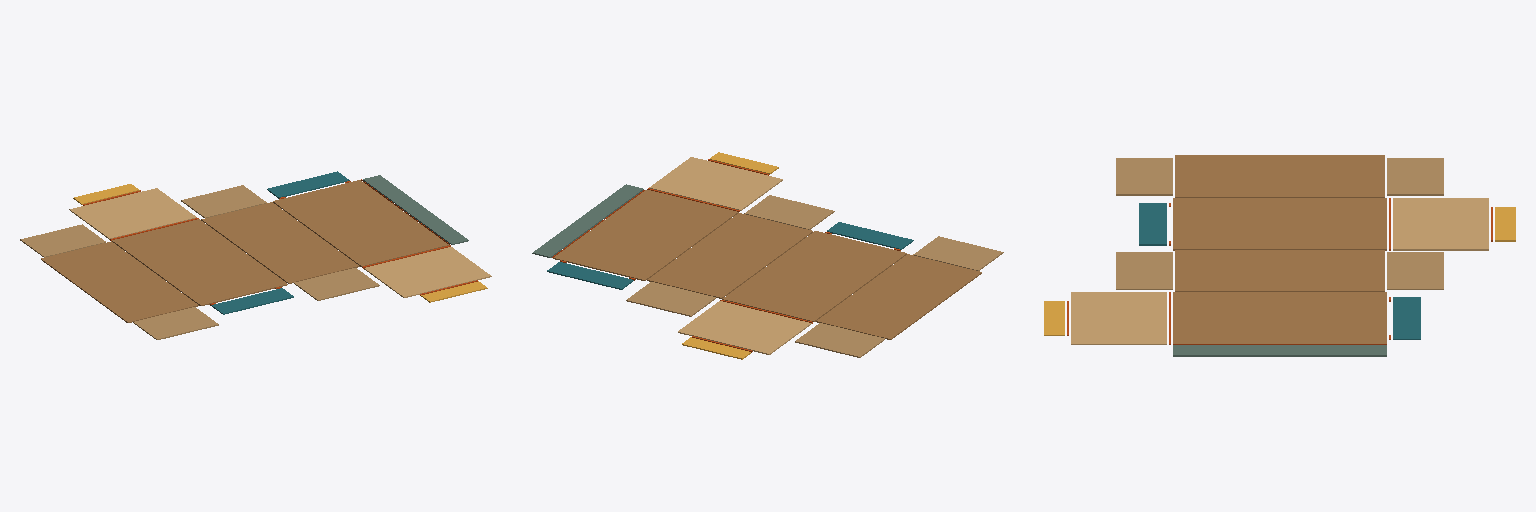
URDF robot description (finite_thickness_tuck_carton):
<?xml version='1.0' encoding='utf-8'?>
<robot name="finite_thickness_tuck_carton">
  <!-- SI units. Root: back_wall. All zero joints: flat net. The slot ears are separate collision boxes: do not convex-hull them together. -->
  <material name="kraft">
    <color rgba="0.69 0.52 0.34 1" />
  </material>
  <material name="lid">
    <color rgba="0.84 0.69 0.49 1" />
  </material>
  <material name="dust">
    <color rgba="0.75 0.61 0.43 1" />
  </material>
  <material name="margin">
    <color rgba="0.79 0.35 0.14 1" />
  </material>
  <material name="keeper">
    <color rgba="0.22 0.48 0.51 1" />
  </material>
  <material name="tab">
    <color rgba="0.92 0.7 0.31 1" />
  </material>
  <material name="glue">
    <color rgba="0.43 0.52 0.48 1" />
  </material>
  <link name="back_wall">
    <inertial>
      <origin xyz="0.08 0.14 0" rpy="0 0 0" />
      <mass value="0.061371576" />
      <inertia ixx="0.000394705358458" iyy="0.000127370773402" izz="0.000522035217477" ixy="0" ixz="0" iyz="0" />
    </inertial>
    <visual name="back_wall_visual_0">
      <origin xyz="0.08 0.14 0" rpy="0 0 0" />
      <geometry>
        <box size="0.1578 0.2778 0.002" />
      </geometry>
      <material name="kraft" />
    </visual>
    <collision name="back_wall_collision_0">
      <origin xyz="0.08 0.14 0" rpy="0 0 0" />
      <geometry>
        <box size="0.1578 0.2778 0.002" />
      </geometry>
    </collision>
  </link>
  <link name="right_wall">
    <inertial>
      <origin xyz="0.065 0.14 0" rpy="0 0 0" />
      <mass value="0.048773592" />
      <inertia ixx="0.000302049815318" iyy="6.64005307274e-05" izz="0.000368417830318" ixy="0" ixz="0" iyz="0" />
    </inertial>
    <visual name="right_wall_visual_0">
      <origin xyz="0.065 0.14 0" rpy="0 0 0" />
      <geometry>
        <box size="0.1278 0.2726 0.002" />
      </geometry>
      <material name="kraft" />
    </visual>
    <collision name="right_wall_collision_0">
      <origin xyz="0.065 0.14 0" rpy="0 0 0" />
      <geometry>
        <box size="0.1278 0.2726 0.002" />
      </geometry>
    </collision>
  </link>
  <link name="front_wall">
    <inertial>
      <origin xyz="0.08 0.14 0" rpy="0 0 0" />
      <mass value="0.061371576" />
      <inertia ixx="0.000394705358458" iyy="0.000127370773402" izz="0.000522035217477" ixy="0" ixz="0" iyz="0" />
    </inertial>
    <visual name="front_wall_visual_0">
      <origin xyz="0.08 0.14 0" rpy="0 0 0" />
      <geometry>
        <box size="0.1578 0.2778 0.002" />
      </geometry>
      <material name="kraft" />
    </visual>
    <collision name="front_wall_collision_0">
      <origin xyz="0.08 0.14 0" rpy="0 0 0" />
      <geometry>
        <box size="0.1578 0.2778 0.002" />
      </geometry>
    </collision>
  </link>
  <link name="left_wall">
    <inertial>
      <origin xyz="-0.065 0.14 0" rpy="0 0 0" />
      <mass value="0.048773592" />
      <inertia ixx="0.000302049815318" iyy="6.64005307274e-05" izz="0.000368417830318" ixy="0" ixz="0" iyz="0" />
    </inertial>
    <visual name="left_wall_visual_0">
      <origin xyz="-0.065 0.14 0" rpy="0 0 0" />
      <geometry>
        <box size="0.1278 0.2726 0.002" />
      </geometry>
      <material name="kraft" />
    </visual>
    <collision name="left_wall_collision_0">
      <origin xyz="-0.065 0.14 0" rpy="0 0 0" />
      <geometry>
        <box size="0.1278 0.2726 0.002" />
      </geometry>
    </collision>
  </link>
  <joint name="fold_right_wall" type="revolute">
    <parent link="back_wall" />
    <child link="right_wall" />
    <origin xyz="0.16 0 0" rpy="0 0 0" />
    <axis xyz="0 -1 0" />
    <limit lower="0" upper="1.57079632679" effort="0.35" velocity="2.0" />
    <dynamics damping="0.08" friction="0.003" />
  </joint>
  <joint name="fold_front_wall" type="revolute">
    <parent link="right_wall" />
    <child link="front_wall" />
    <origin xyz="0.13 0 0" rpy="0 0 0" />
    <axis xyz="0 -1 0" />
    <limit lower="0" upper="1.57079632679" effort="0.35" velocity="2.0" />
    <dynamics damping="0.08" friction="0.003" />
  </joint>
  <joint name="fold_left_wall" type="revolute">
    <parent link="back_wall" />
    <child link="left_wall" />
    <origin xyz="0 0 0" rpy="0 0 0" />
    <axis xyz="0 1 0" />
    <limit lower="0" upper="1.57079632679" effort="0.35" velocity="2.0" />
    <dynamics damping="0.08" friction="0.003" />
  </joint>
  <link name="seam_margin">
    <inertial>
      <origin xyz="0.0013 0.14 0" rpy="0 0 0" />
      <mass value="0.000155568" />
      <inertia ixx="1.00052055376e-06" iyy="5.393024e-11" izz="1.000470772e-06" ixy="0" ixz="0" iyz="0" />
    </inertial>
    <visual name="seam_margin_visual_0">
      <origin xyz="0.0013 0.14 0" rpy="0 0 0" />
      <geometry>
        <box size="0.0004 0.2778 0.002" />
      </geometry>
      <material name="margin" />
    </visual>
    <collision name="seam_margin_collision_0">
      <origin xyz="0.0013 0.14 0" rpy="0 0 0" />
      <geometry>
        <box size="0.0004 0.2778 0.002" />
      </geometry>
    </collision>
  </link>
  <link name="glue_flap">
    <inertial>
      <origin xyz="0.01655 0.14 0" rpy="0 0 0" />
      <mass value="0.012017628" />
      <inertia ixx="7.7290212778e-05" iyy="9.6021849189e-07" izz="7.82424195179e-05" ixy="0" ixz="0" iyz="0" />
    </inertial>
    <visual name="glue_flap_visual_0">
      <origin xyz="0.01655 0.14 0" rpy="0 0 0" />
      <geometry>
        <box size="0.0309 0.2778 0.002" />
      </geometry>
      <material name="glue" />
    </visual>
    <collision name="glue_flap_collision_0">
      <origin xyz="0.01655 0.14 0" rpy="0 0 0" />
      <geometry>
        <box size="0.0309 0.2778 0.002" />
      </geometry>
    </collision>
  </link>
  <joint name="seam_margin_fold" type="revolute">
    <parent link="front_wall" />
    <child link="seam_margin" />
    <origin xyz="0.16 0 0" rpy="0 0 0" />
    <axis xyz="0 -1 0" />
    <limit lower="-0.523598775598" upper="0.523598775598" effort="0.35" velocity="2.0" />
    <dynamics damping="0.08" friction="0.003" />
  </joint>
  <joint name="glue_flap_fold" type="revolute">
    <parent link="seam_margin" />
    <child link="glue_flap" />
    <origin xyz="0.0026 0 0" rpy="0 0 0" />
    <axis xyz="0 -1 0" />
    <limit lower="0" upper="1.57079632679" effort="0.35" velocity="2.0" />
    <dynamics damping="0.08" friction="0.003" />
  </joint>
  <link name="top_socket_margin">
    <inertial>
      <origin xyz="0 0.0026 0" rpy="0 0 0" />
      <mass value="8.4e-05" />
      <inertia ixx="9.1e-11" iyy="2.93132e-07" izz="2.93167e-07" ixy="0" ixz="0" iyz="0" />
    </inertial>
    <visual name="top_socket_margin_visual_0">
      <origin xyz="-0.059 0.0026 0" rpy="0 0 0" />
      <geometry>
        <box size="0.01 0.003 0.002" />
      </geometry>
      <material name="margin" />
    </visual>
    <collision name="top_socket_margin_collision_0">
      <origin xyz="-0.059 0.0026 0" rpy="0 0 0" />
      <geometry>
        <box size="0.01 0.003 0.002" />
      </geometry>
    </collision>
    <visual name="top_socket_margin_visual_1">
      <origin xyz="0.059 0.0026 0" rpy="0 0 0" />
      <geometry>
        <box size="0.01 0.003 0.002" />
      </geometry>
      <material name="margin" />
    </visual>
    <collision name="top_socket_margin_collision_1">
      <origin xyz="0.059 0.0026 0" rpy="0 0 0" />
      <geometry>
        <box size="0.01 0.003 0.002" />
      </geometry>
    </collision>
  </link>
  <link name="top_socket_keeper">
    <inertial>
      <origin xyz="0 0.01955 0" rpy="0 0 0" />
      <mass value="0.00661248" />
      <inertia ixx="7.525057344e-07" iyy="9.03044352e-06" izz="9.7785409344e-06" ixy="0" ixz="0" iyz="0" />
    </inertial>
    <visual name="top_socket_keeper_visual_0">
      <origin xyz="0 0.01955 0" rpy="0 0 0" />
      <geometry>
        <box size="0.128 0.0369 0.002" />
      </geometry>
      <material name="keeper" />
    </visual>
    <collision name="top_socket_keeper_collision_0">
      <origin xyz="0 0.01955 0" rpy="0 0 0" />
      <geometry>
        <box size="0.128 0.0369 0.002" />
      </geometry>
    </collision>
  </link>
  <joint name="top_socket_base" type="revolute">
    <parent link="front_wall" />
    <child link="top_socket_margin" />
    <origin xyz="0.08 0.28 0" rpy="0 0 0" />
    <axis xyz="1 0 0" />
    <limit lower="0" upper="1.57079632679" effort="0.35" velocity="2.0" />
    <dynamics damping="0.08" friction="0.003" />
  </joint>
  <joint name="top_socket_return" type="revolute">
    <parent link="top_socket_margin" />
    <child link="top_socket_keeper" />
    <origin xyz="0 0.0052 0" rpy="0 0 0" />
    <axis xyz="1 0 0" />
    <limit lower="0" upper="1.57079632679" effort="0.35" velocity="2.0" />
    <dynamics damping="0.08" friction="0.003" />
  </joint>
  <link name="bottom_socket_margin">
    <inertial>
      <origin xyz="0 0.0026 0" rpy="0 0 0" />
      <mass value="8.4e-05" />
      <inertia ixx="9.1e-11" iyy="2.93132e-07" izz="2.93167e-07" ixy="0" ixz="0" iyz="0" />
    </inertial>
    <visual name="bottom_socket_margin_visual_0">
      <origin xyz="-0.059 0.0026 0" rpy="0 0 0" />
      <geometry>
        <box size="0.01 0.003 0.002" />
      </geometry>
      <material name="margin" />
    </visual>
    <collision name="bottom_socket_margin_collision_0">
      <origin xyz="-0.059 0.0026 0" rpy="0 0 0" />
      <geometry>
        <box size="0.01 0.003 0.002" />
      </geometry>
    </collision>
    <visual name="bottom_socket_margin_visual_1">
      <origin xyz="0.059 0.0026 0" rpy="0 0 0" />
      <geometry>
        <box size="0.01 0.003 0.002" />
      </geometry>
      <material name="margin" />
    </visual>
    <collision name="bottom_socket_margin_collision_1">
      <origin xyz="0.059 0.0026 0" rpy="0 0 0" />
      <geometry>
        <box size="0.01 0.003 0.002" />
      </geometry>
    </collision>
  </link>
  <link name="bottom_socket_keeper">
    <inertial>
      <origin xyz="0 0.01955 0" rpy="0 0 0" />
      <mass value="0.00661248" />
      <inertia ixx="7.525057344e-07" iyy="9.03044352e-06" izz="9.7785409344e-06" ixy="0" ixz="0" iyz="0" />
    </inertial>
    <visual name="bottom_socket_keeper_visual_0">
      <origin xyz="0 0.01955 0" rpy="0 0 0" />
      <geometry>
        <box size="0.128 0.0369 0.002" />
      </geometry>
      <material name="keeper" />
    </visual>
    <collision name="bottom_socket_keeper_collision_0">
      <origin xyz="0 0.01955 0" rpy="0 0 0" />
      <geometry>
        <box size="0.128 0.0369 0.002" />
      </geometry>
    </collision>
  </link>
  <joint name="bottom_socket_base" type="revolute">
    <parent link="back_wall" />
    <child link="bottom_socket_margin" />
    <origin xyz="0.08 0 0" rpy="0 0 3.14159265359" />
    <axis xyz="1 0 0" />
    <limit lower="0" upper="1.57079632679" effort="0.35" velocity="2.0" />
    <dynamics damping="0.08" friction="0.003" />
  </joint>
  <joint name="bottom_socket_return" type="revolute">
    <parent link="bottom_socket_margin" />
    <child link="bottom_socket_keeper" />
    <origin xyz="0 0.0052 0" rpy="0 0 0" />
    <axis xyz="1 0 0" />
    <limit lower="0" upper="1.57079632679" effort="0.35" velocity="2.0" />
    <dynamics damping="0.08" friction="0.003" />
  </joint>
  <link name="top_lid_margin">
    <inertial>
      <origin xyz="0 0.0026 0" rpy="0 0 0" />
      <mass value="0.00066276" />
      <inertia ixx="7.1799e-10" iyy="1.3754943132e-06" izz="1.3757704632e-06" ixy="0" ixz="0" iyz="0" />
    </inertial>
    <visual name="top_lid_margin_visual_0">
      <origin xyz="0 0.0026 0" rpy="0 0 0" />
      <geometry>
        <box size="0.1578 0.003 0.002" />
      </geometry>
      <material name="margin" />
    </visual>
    <collision name="top_lid_margin_collision_0">
      <origin xyz="0 0.0026 0" rpy="0 0 0" />
      <geometry>
        <box size="0.1578 0.003 0.002" />
      </geometry>
    </collision>
  </link>
  <link name="top_lid">
    <inertial>
      <origin xyz="0 0.0637 0" rpy="0 0 0" />
      <mass value="0.027659184" />
      <inertia ixx="3.61391210253e-05" iyy="5.74039626709e-05" izz="9.35246442402e-05" ixy="0" ixz="0" iyz="0" />
    </inertial>
    <visual name="top_lid_visual_0">
      <origin xyz="0 0.0637 0" rpy="0 0 0" />
      <geometry>
        <box size="0.1578 0.1252 0.002" />
      </geometry>
      <material name="lid" />
    </visual>
    <collision name="top_lid_collision_0">
      <origin xyz="0 0.0637 0" rpy="0 0 0" />
      <geometry>
        <box size="0.1578 0.1252 0.002" />
      </geometry>
    </collision>
  </link>
  <link name="top_tuck_margin">
    <inertial>
      <origin xyz="0 0.0026 0" rpy="0 0 0" />
      <mass value="0.0004368" />
      <inertia ixx="4.732e-10" iyy="3.93848e-07" izz="3.9403e-07" ixy="0" ixz="0" iyz="0" />
    </inertial>
    <visual name="top_tuck_margin_visual_0">
      <origin xyz="0 0.0026 0" rpy="0 0 0" />
      <geometry>
        <box size="0.104 0.003 0.002" />
      </geometry>
      <material name="margin" />
    </visual>
    <collision name="top_tuck_margin_collision_0">
      <origin xyz="0 0.0026 0" rpy="0 0 0" />
      <geometry>
        <box size="0.104 0.003 0.002" />
      </geometry>
    </collision>
  </link>
  <link name="top_tuck_tab">
    <inertial>
      <origin xyz="0 0.01455 0" rpy="0 0 0" />
      <mass value="0.00391664" />
      <inertia ixx="2.37482202533e-07" iyy="3.53150373333e-06" izz="3.76637484253e-06" ixy="0" ixz="0" iyz="0" />
    </inertial>
    <visual name="top_tuck_tab_visual_0">
      <origin xyz="0 0.01455 0" rpy="0 0 0" />
      <geometry>
        <box size="0.104 0.0269 0.002" />
      </geometry>
      <material name="tab" />
    </visual>
    <collision name="top_tuck_tab_collision_0">
      <origin xyz="0 0.01455 0" rpy="0 0 0" />
      <geometry>
        <box size="0.104 0.0269 0.002" />
      </geometry>
    </collision>
  </link>
  <joint name="top_lid_margin_fold" type="revolute">
    <parent link="back_wall" />
    <child link="top_lid_margin" />
    <origin xyz="0.08 0.28 0" rpy="0 0 0" />
    <axis xyz="1 0 0" />
    <limit lower="-0.523598775598" upper="0.523598775598" effort="0.35" velocity="2.0" />
    <dynamics damping="0.08" friction="0.003" />
  </joint>
  <joint name="top_lid_fold" type="revolute">
    <parent link="top_lid_margin" />
    <child link="top_lid" />
    <origin xyz="0 0.0052 0" rpy="0 0 0" />
    <axis xyz="1 0 0" />
    <limit lower="0" upper="1.57079632679" effort="0.35" velocity="2.0" />
    <dynamics damping="0.08" friction="0.003" />
  </joint>
  <joint name="top_tuck_margin_fold" type="revolute">
    <parent link="top_lid" />
    <child link="top_tuck_margin" />
    <origin xyz="0 0.1274 0" rpy="0 0 0" />
    <axis xyz="1 0 0" />
    <limit lower="0" upper="1.83259571459" effort="0.35" velocity="2.0" />
    <dynamics damping="0.08" friction="0.003" />
  </joint>
  <joint name="top_tuck_tab_fold" type="revolute">
    <parent link="top_tuck_margin" />
    <child link="top_tuck_tab" />
    <origin xyz="0 0.0052 0" rpy="0 0 0" />
    <axis xyz="1 0 0" />
    <limit lower="0" upper="1.57079632679" effort="0.35" velocity="2.0" />
    <dynamics damping="0.08" friction="0.003" />
  </joint>
  <link name="bottom_lid_margin">
    <inertial>
      <origin xyz="0 0.0026 0" rpy="0 0 0" />
      <mass value="0.00066276" />
      <inertia ixx="7.1799e-10" iyy="1.3754943132e-06" izz="1.3757704632e-06" ixy="0" ixz="0" iyz="0" />
    </inertial>
    <visual name="bottom_lid_margin_visual_0">
      <origin xyz="0 0.0026 0" rpy="0 0 0" />
      <geometry>
        <box size="0.1578 0.003 0.002" />
      </geometry>
      <material name="margin" />
    </visual>
    <collision name="bottom_lid_margin_collision_0">
      <origin xyz="0 0.0026 0" rpy="0 0 0" />
      <geometry>
        <box size="0.1578 0.003 0.002" />
      </geometry>
    </collision>
  </link>
  <link name="bottom_lid">
    <inertial>
      <origin xyz="0 0.0637 0" rpy="0 0 0" />
      <mass value="0.027659184" />
      <inertia ixx="3.61391210253e-05" iyy="5.74039626709e-05" izz="9.35246442402e-05" ixy="0" ixz="0" iyz="0" />
    </inertial>
    <visual name="bottom_lid_visual_0">
      <origin xyz="0 0.0637 0" rpy="0 0 0" />
      <geometry>
        <box size="0.1578 0.1252 0.002" />
      </geometry>
      <material name="lid" />
    </visual>
    <collision name="bottom_lid_collision_0">
      <origin xyz="0 0.0637 0" rpy="0 0 0" />
      <geometry>
        <box size="0.1578 0.1252 0.002" />
      </geometry>
    </collision>
  </link>
  <link name="bottom_tuck_margin">
    <inertial>
      <origin xyz="0 0.0026 0" rpy="0 0 0" />
      <mass value="0.0004368" />
      <inertia ixx="4.732e-10" iyy="3.93848e-07" izz="3.9403e-07" ixy="0" ixz="0" iyz="0" />
    </inertial>
    <visual name="bottom_tuck_margin_visual_0">
      <origin xyz="0 0.0026 0" rpy="0 0 0" />
      <geometry>
        <box size="0.104 0.003 0.002" />
      </geometry>
      <material name="margin" />
    </visual>
    <collision name="bottom_tuck_margin_collision_0">
      <origin xyz="0 0.0026 0" rpy="0 0 0" />
      <geometry>
        <box size="0.104 0.003 0.002" />
      </geometry>
    </collision>
  </link>
  <link name="bottom_tuck_tab">
    <inertial>
      <origin xyz="0 0.01455 0" rpy="0 0 0" />
      <mass value="0.00391664" />
      <inertia ixx="2.37482202533e-07" iyy="3.53150373333e-06" izz="3.76637484253e-06" ixy="0" ixz="0" iyz="0" />
    </inertial>
    <visual name="bottom_tuck_tab_visual_0">
      <origin xyz="0 0.01455 0" rpy="0 0 0" />
      <geometry>
        <box size="0.104 0.0269 0.002" />
      </geometry>
      <material name="tab" />
    </visual>
    <collision name="bottom_tuck_tab_collision_0">
      <origin xyz="0 0.01455 0" rpy="0 0 0" />
      <geometry>
        <box size="0.104 0.0269 0.002" />
      </geometry>
    </collision>
  </link>
  <joint name="bottom_lid_margin_fold" type="revolute">
    <parent link="front_wall" />
    <child link="bottom_lid_margin" />
    <origin xyz="0.08 0 0" rpy="0 0 3.14159265359" />
    <axis xyz="1 0 0" />
    <limit lower="-0.523598775598" upper="0.523598775598" effort="0.35" velocity="2.0" />
    <dynamics damping="0.08" friction="0.003" />
  </joint>
  <joint name="bottom_lid_fold" type="revolute">
    <parent link="bottom_lid_margin" />
    <child link="bottom_lid" />
    <origin xyz="0 0.0052 0" rpy="0 0 0" />
    <axis xyz="1 0 0" />
    <limit lower="0" upper="1.57079632679" effort="0.35" velocity="2.0" />
    <dynamics damping="0.08" friction="0.003" />
  </joint>
  <joint name="bottom_tuck_margin_fold" type="revolute">
    <parent link="bottom_lid" />
    <child link="bottom_tuck_margin" />
    <origin xyz="0 0.1274 0" rpy="0 0 0" />
    <axis xyz="1 0 0" />
    <limit lower="0" upper="1.83259571459" effort="0.35" velocity="2.0" />
    <dynamics damping="0.08" friction="0.003" />
  </joint>
  <joint name="bottom_tuck_tab_fold" type="revolute">
    <parent link="bottom_tuck_margin" />
    <child link="bottom_tuck_tab" />
    <origin xyz="0 0.0052 0" rpy="0 0 0" />
    <axis xyz="1 0 0" />
    <limit lower="0" upper="1.57079632679" effort="0.35" velocity="2.0" />
    <dynamics damping="0.08" friction="0.003" />
  </joint>
  <link name="top_right_dust">
    <inertial>
      <origin xyz="0 0.03855 0" rpy="0 0 0" />
      <mass value="0.011702376" />
      <inertia ixx="5.47477132398e-06" iyy="1.21495627949e-05" izz="1.76165325349e-05" ixy="0" ixz="0" iyz="0" />
    </inertial>
    <visual name="top_right_dust_visual_0">
      <origin xyz="0 0.03855 0" rpy="0 0 0" />
      <geometry>
        <box size="0.1116 0.0749 0.002" />
      </geometry>
      <material name="dust" />
    </visual>
    <collision name="top_right_dust_collision_0">
      <origin xyz="0 0.03855 0" rpy="0 0 0" />
      <geometry>
        <box size="0.1116 0.0749 0.002" />
      </geometry>
    </collision>
  </link>
  <joint name="top_right_dust_fold" type="revolute">
    <parent link="right_wall" />
    <child link="top_right_dust" />
    <origin xyz="0.065 0.2774 0" rpy="0 0 0" />
    <axis xyz="1 0 0" />
    <limit lower="0" upper="1.57079632679" effort="0.35" velocity="2.0" />
    <dynamics damping="0.08" friction="0.003" />
  </joint>
  <link name="bottom_right_dust">
    <inertial>
      <origin xyz="0 0.03855 0" rpy="0 0 0" />
      <mass value="0.011702376" />
      <inertia ixx="5.47477132398e-06" iyy="1.21495627949e-05" izz="1.76165325349e-05" ixy="0" ixz="0" iyz="0" />
    </inertial>
    <visual name="bottom_right_dust_visual_0">
      <origin xyz="0 0.03855 0" rpy="0 0 0" />
      <geometry>
        <box size="0.1116 0.0749 0.002" />
      </geometry>
      <material name="dust" />
    </visual>
    <collision name="bottom_right_dust_collision_0">
      <origin xyz="0 0.03855 0" rpy="0 0 0" />
      <geometry>
        <box size="0.1116 0.0749 0.002" />
      </geometry>
    </collision>
  </link>
  <joint name="bottom_right_dust_fold" type="revolute">
    <parent link="right_wall" />
    <child link="bottom_right_dust" />
    <origin xyz="0.065 0.0026 0" rpy="0 0 3.14159265359" />
    <axis xyz="1 0 0" />
    <limit lower="0" upper="1.57079632679" effort="0.35" velocity="2.0" />
    <dynamics damping="0.08" friction="0.003" />
  </joint>
  <link name="top_left_dust">
    <inertial>
      <origin xyz="0 0.03855 0" rpy="0 0 0" />
      <mass value="0.011702376" />
      <inertia ixx="5.47477132398e-06" iyy="1.21495627949e-05" izz="1.76165325349e-05" ixy="0" ixz="0" iyz="0" />
    </inertial>
    <visual name="top_left_dust_visual_0">
      <origin xyz="0 0.03855 0" rpy="0 0 0" />
      <geometry>
        <box size="0.1116 0.0749 0.002" />
      </geometry>
      <material name="dust" />
    </visual>
    <collision name="top_left_dust_collision_0">
      <origin xyz="0 0.03855 0" rpy="0 0 0" />
      <geometry>
        <box size="0.1116 0.0749 0.002" />
      </geometry>
    </collision>
  </link>
  <joint name="top_left_dust_fold" type="revolute">
    <parent link="left_wall" />
    <child link="top_left_dust" />
    <origin xyz="-0.065 0.2774 0" rpy="0 0 0" />
    <axis xyz="1 0 0" />
    <limit lower="0" upper="1.57079632679" effort="0.35" velocity="2.0" />
    <dynamics damping="0.08" friction="0.003" />
  </joint>
  <link name="bottom_left_dust">
    <inertial>
      <origin xyz="0 0.03855 0" rpy="0 0 0" />
      <mass value="0.011702376" />
      <inertia ixx="5.47477132398e-06" iyy="1.21495627949e-05" izz="1.76165325349e-05" ixy="0" ixz="0" iyz="0" />
    </inertial>
    <visual name="bottom_left_dust_visual_0">
      <origin xyz="0 0.03855 0" rpy="0 0 0" />
      <geometry>
        <box size="0.1116 0.0749 0.002" />
      </geometry>
      <material name="dust" />
    </visual>
    <collision name="bottom_left_dust_collision_0">
      <origin xyz="0 0.03855 0" rpy="0 0 0" />
      <geometry>
        <box size="0.1116 0.0749 0.002" />
      </geometry>
    </collision>
  </link>
  <joint name="bottom_left_dust_fold" type="revolute">
    <parent link="left_wall" />
    <child link="bottom_left_dust" />
    <origin xyz="-0.065 0.0026 0" rpy="0 0 3.14159265359" />
    <axis xyz="1 0 0" />
    <limit lower="0" upper="1.57079632679" effort="0.35" velocity="2.0" />
    <dynamics damping="0.08" friction="0.003" />
  </joint>
</robot>

--- Facts derived from the render (not from the file) ---
The picture shows the robot from 3 angles, left to right: view 1: azimuth 30°, elevation 25°; view 2: azimuth 150°, elevation 25°; view 3: azimuth 270°, elevation 25°; orthographic projection.
Model finite_thickness_tuck_carton with 22 links and 21 joints (21 revolute), rooted at back_wall, posed every joint at zero.
Visible links, largest first — view 1: back_wall, front_wall, right_wall, left_wall, bottom_lid, top_lid, glue_flap, bottom_right_dust, bottom_left_dust, top_right_dust, top_left_dust, bottom_socket_keeper (+3 smaller); view 2: front_wall, back_wall, right_wall, left_wall, top_lid, bottom_lid, glue_flap, top_left_dust, top_right_dust, bottom_right_dust, bottom_left_dust, top_socket_keeper (+3 smaller); view 3: back_wall, front_wall, left_wall, right_wall, top_lid, bottom_lid, glue_flap, top_right_dust, bottom_right_dust, top_left_dust, bottom_left_dust, top_socket_keeper (+3 smaller).
Boxes of the visible links, bbox=[...] form: back_wall: bbox=[112, 219, 287, 305]; front_wall: bbox=[273, 180, 448, 266]; right_wall: bbox=[201, 202, 359, 283]; left_wall: bbox=[41, 241, 198, 322]; bottom_lid: bbox=[364, 247, 491, 297]; top_lid: bbox=[69, 188, 196, 239]; glue_flap: bbox=[363, 175, 468, 244]; bottom_right_dust: bbox=[294, 268, 379, 300]; bottom_left_dust: bbox=[133, 307, 218, 339]; top_right_dust: bbox=[181, 185, 266, 217]; top_left_dust: bbox=[20, 224, 105, 257]; bottom_socket_keeper: bbox=[211, 288, 293, 314]; front_wall: bbox=[553, 190, 738, 280]; back_wall: bbox=[722, 231, 906, 321]; right_wall: bbox=[647, 213, 812, 298]; left_wall: bbox=[816, 254, 981, 339]; top_lid: bbox=[678, 301, 811, 354]; bottom_lid: bbox=[649, 157, 782, 210]; glue_flap: bbox=[532, 184, 643, 257]; top_left_dust: bbox=[795, 323, 884, 357]; top_right_dust: bbox=[626, 282, 715, 316]; bottom_right_dust: bbox=[744, 195, 834, 229]; bottom_left_dust: bbox=[913, 236, 1003, 270]; top_socket_keeper: bbox=[547, 262, 633, 289]; back_wall: bbox=[1173, 198, 1386, 250]; front_wall: bbox=[1173, 292, 1386, 343]; left_wall: bbox=[1175, 155, 1384, 197]; right_wall: bbox=[1175, 250, 1384, 291]; top_lid: bbox=[1393, 198, 1488, 250]; bottom_lid: bbox=[1071, 292, 1166, 344]; glue_flap: bbox=[1173, 345, 1386, 356]; top_right_dust: bbox=[1387, 252, 1443, 289]; bottom_right_dust: bbox=[1116, 252, 1172, 289]; top_left_dust: bbox=[1387, 158, 1443, 195]; bottom_left_dust: bbox=[1116, 158, 1172, 195]; top_socket_keeper: bbox=[1393, 297, 1420, 339].
Size in the robot's own frame: 0.6135 by 0.6116 by 0.002 metres.
Geometry: primitives only (box / cylinder / sphere), no mesh files.
